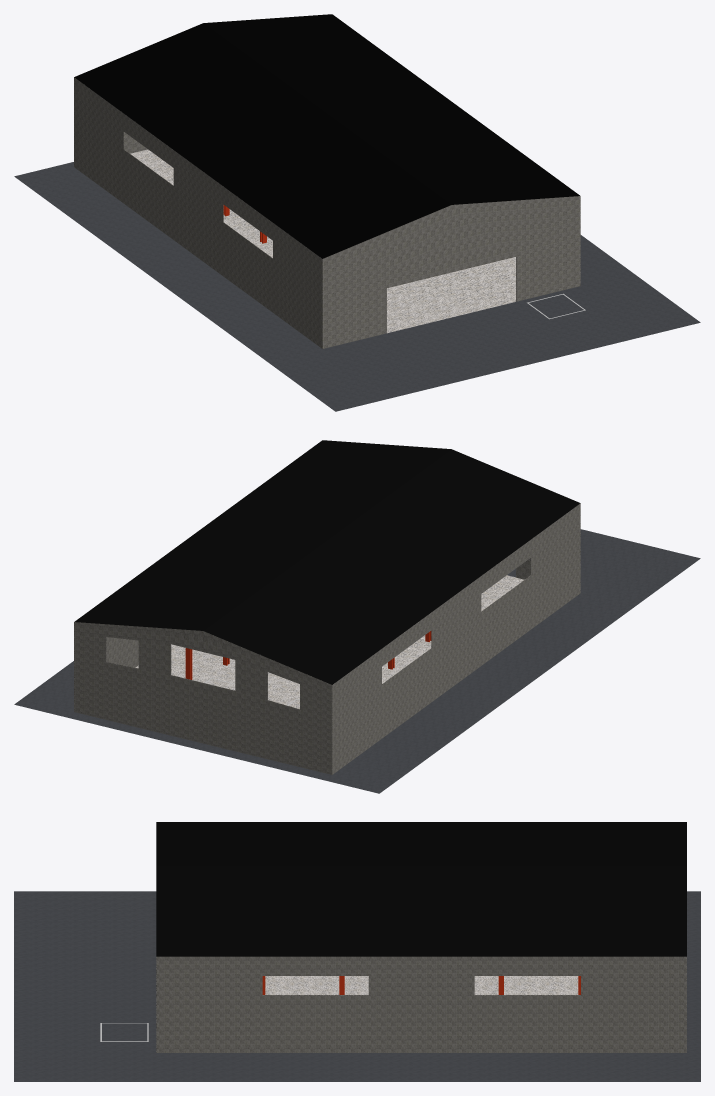
The model's file is warehouse_twosided.obj.
The picture shows the model from 3 angles, top to bottom: view 1: azimuth 30°, elevation 25°; view 2: azimuth 150°, elevation 25°; view 3: azimuth 270°, elevation 25°; orthographic projection. The views are drawn at different scales.
Parts seen in each view (by area): view 1: Plane_002-mesh, Plane_019-mesh, Plane_003-mesh, Plane_006-mesh, Plane_007-mesh; view 2: Plane_002-mesh, Plane_019-mesh, Plane_005-mesh, Plane_003-mesh, Plane_007-mesh, Plane_004-mesh; view 3: Plane_002-mesh, Plane_004-mesh, Plane_019-mesh, Plane_007-mesh.
Part boxes in pixels (x1=…): Plane_002-mesh: x1=74, y1=14, x2=579, y2=258; Plane_019-mesh: x1=14, y1=162, x2=700, y2=411; Plane_003-mesh: x1=74, y1=77, x2=322, y2=348; Plane_006-mesh: x1=322, y1=196, x2=580, y2=348; Plane_007-mesh: x1=130, y1=149, x2=515, y2=333; Plane_002-mesh: x1=74, y1=440, x2=580, y2=684; Plane_019-mesh: x1=14, y1=529, x2=700, y2=793; Plane_005-mesh: x1=74, y1=622, x2=332, y2=774; Plane_003-mesh: x1=332, y1=504, x2=580, y2=774; Plane_007-mesh: x1=135, y1=575, x2=524, y2=708; Plane_004-mesh: x1=74, y1=622, x2=138, y2=711; Plane_002-mesh: x1=156, y1=822, x2=686, y2=956; Plane_004-mesh: x1=156, y1=956, x2=686, y2=1052; Plane_019-mesh: x1=14, y1=891, x2=700, y2=1081; Plane_007-mesh: x1=265, y1=976, x2=578, y2=994.
Bounding box in the file's own units: 42.46 × 12.6 × 64.73.
